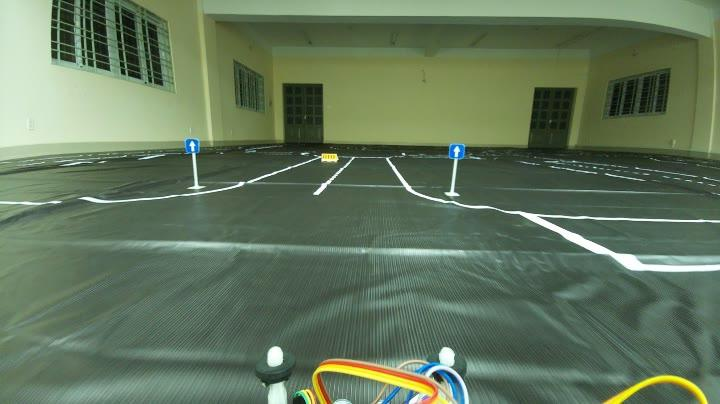onewayroad: (444, 139, 464, 161), (181, 139, 201, 153)
roadblock: (320, 152, 338, 166)
